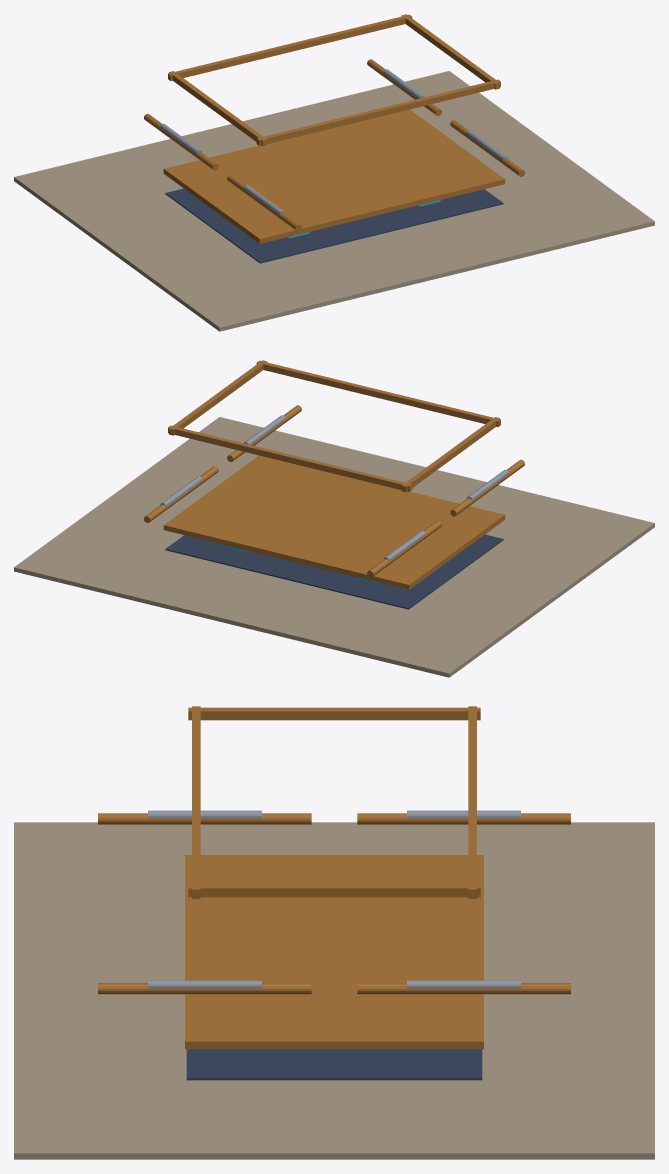
The model's file is stage_06_walls.glb.
3 views of the same model, one above another, from view 1: azimuth 30°, elevation 25°; view 2: azimuth 150°, elevation 25°; view 3: azimuth 270°, elevation 25° (orthographic). The views are drawn at different scales.
Visible parts, largest first — view 1: world; view 2: world; view 3: world.
Boxes of the visible parts, <box> form: world: <box>14,14,654,331</box>; world: <box>14,360,654,677</box>; world: <box>14,706,654,1159</box>.
Size of the model in its own units: 11 by 3.04 by 9.
